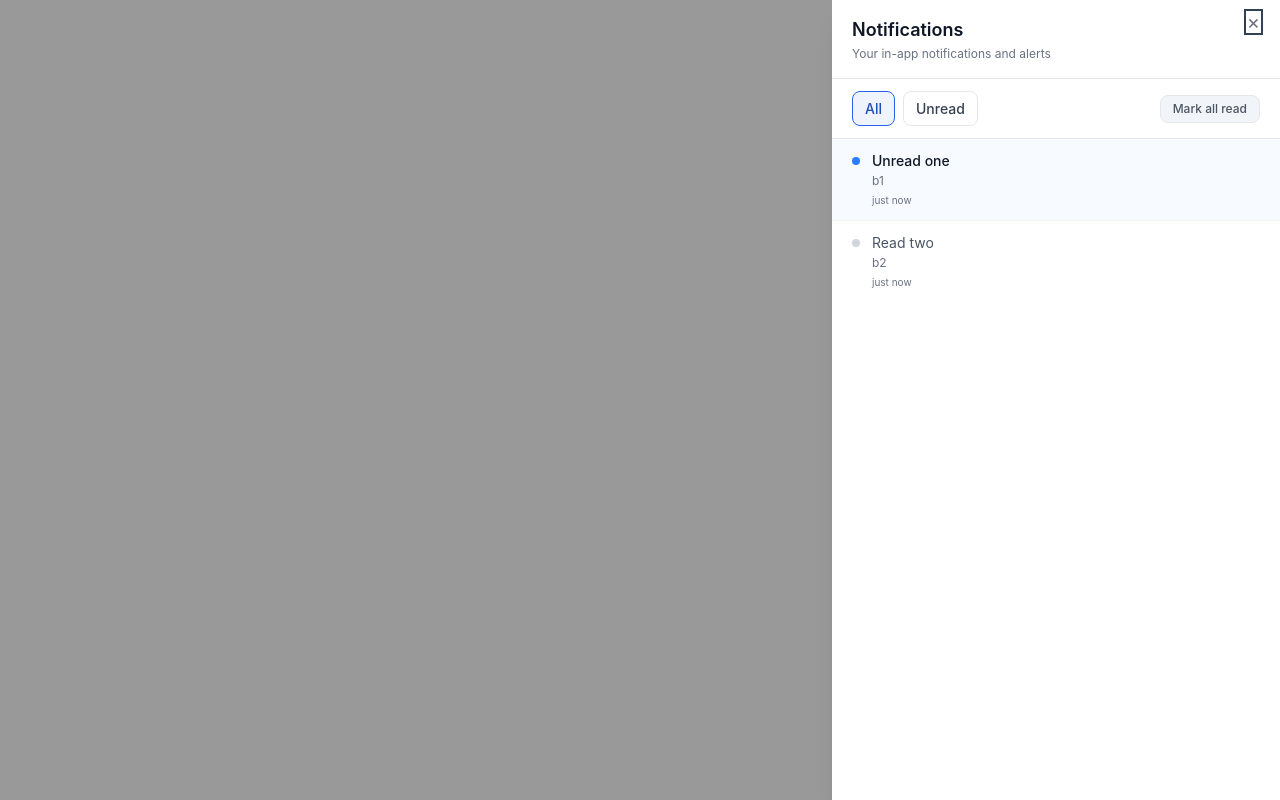
Test: NotificationDrawer.vue › Unread tab filters out read items
Click the button "Unread" at (940, 108), box [903,91,978,126]
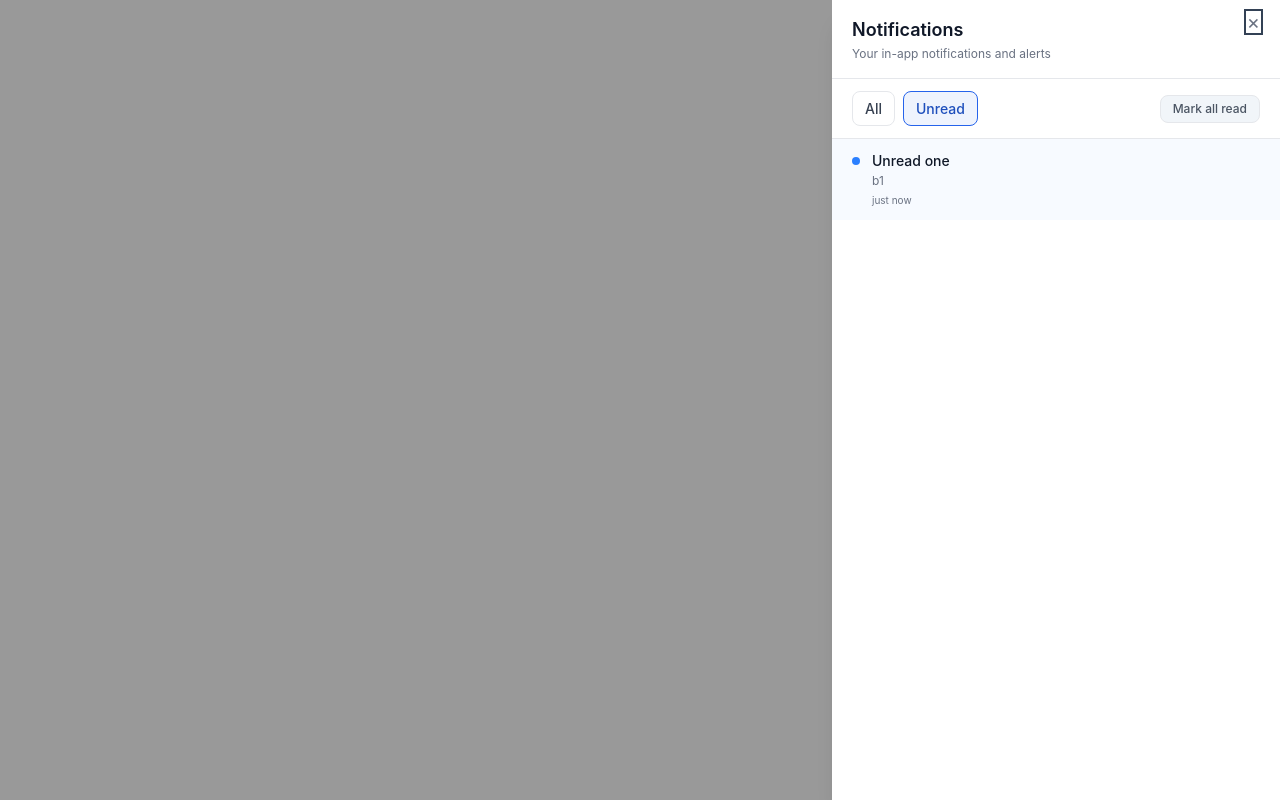
Expected: the text "Unread one" is shown, [872,152,950,169]
Now the text "Read two" is gone
